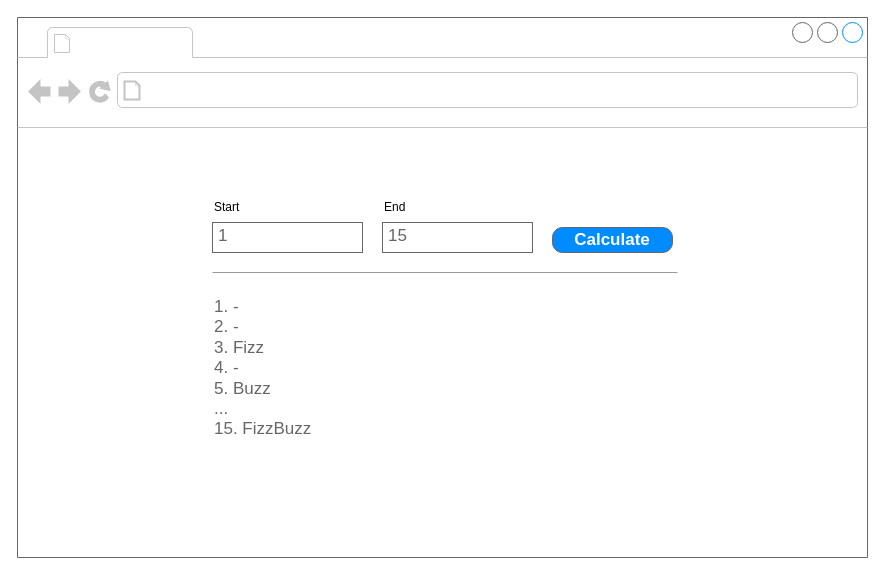
Some shapes in this 885 by 575 pixel diagram are drawn without their labels. Here are the shapes that lost their labels. From the top down, the centre of each, then its label:
the point at 132,42: FizzBuzz
the point at 272,90: http://localhost:3000
